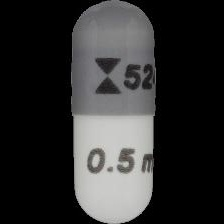68151-2959: (0, 0, 224, 224)
